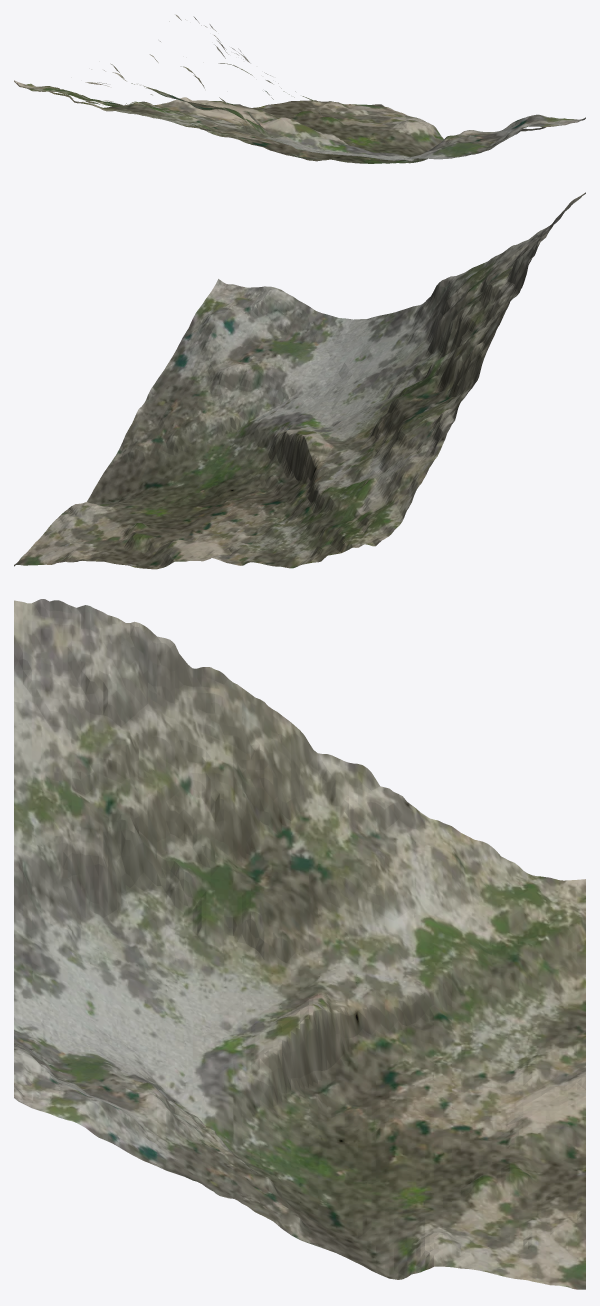
3 views of the same model, one above another, from view 1: azimuth 30°, elevation 25°; view 2: azimuth 150°, elevation 25°; view 3: azimuth 270°, elevation 25° (orthographic). The views are drawn at different scales.
Bounding box in the file's own units: 250 × 205 × 241.
1 material, 1 textured.
